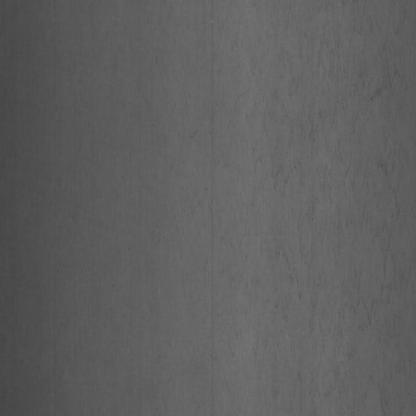silk_spot: (232, 15, 412, 385)
